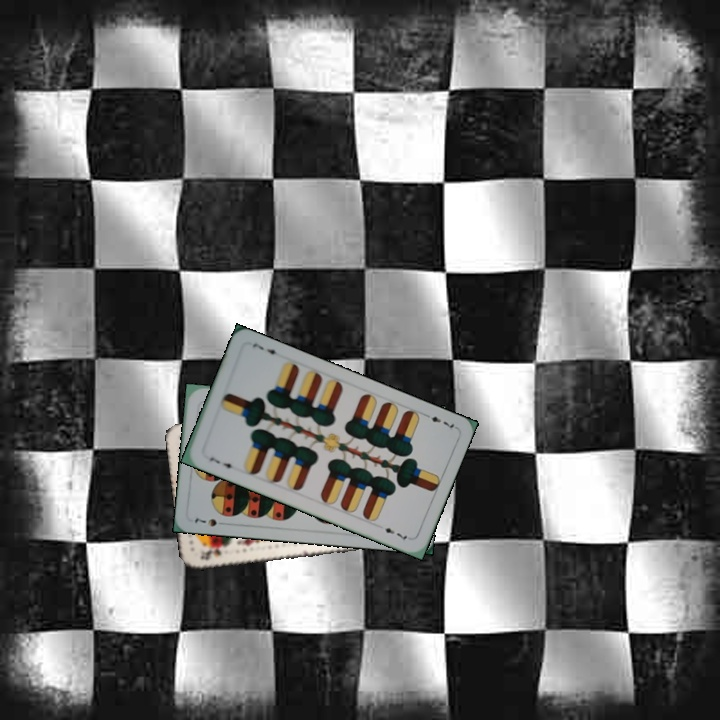E7: (420, 409, 458, 431), (205, 453, 237, 473)
S7: (191, 514, 229, 529)
SK: (196, 544, 224, 562)
